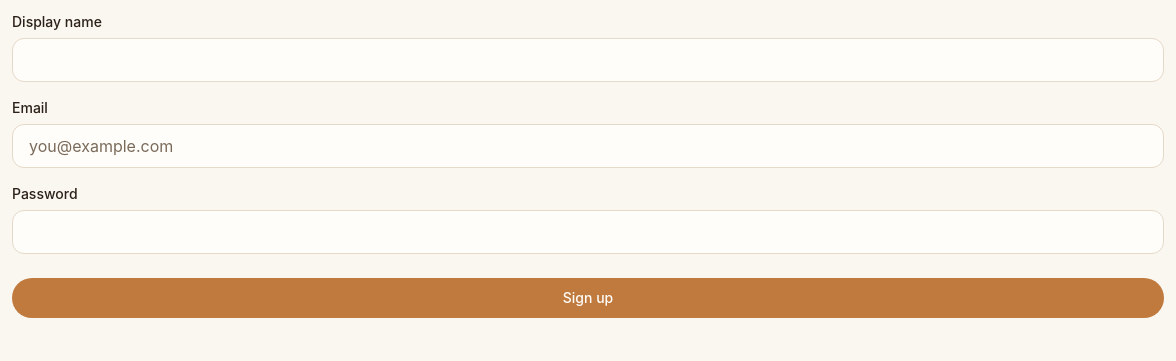
Test: RegisterForm › requires a display name
The width and height of the screenshot is (1176, 361).
In the field labelled "Email": x=588, y=146 top-left (12, 124), bottom-right (1164, 168), type "ada@example.com"
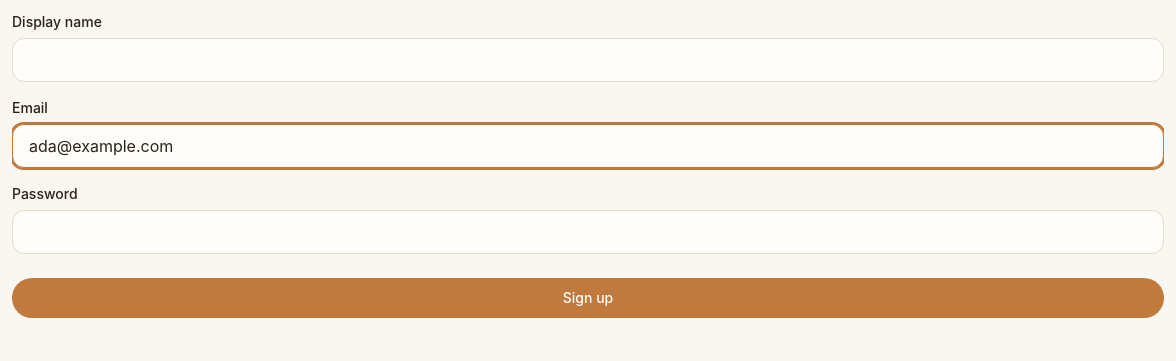
In the password field labelled "Password": x=588, y=232 top-left (12, 210), bottom-right (1164, 254), type "espresso42"
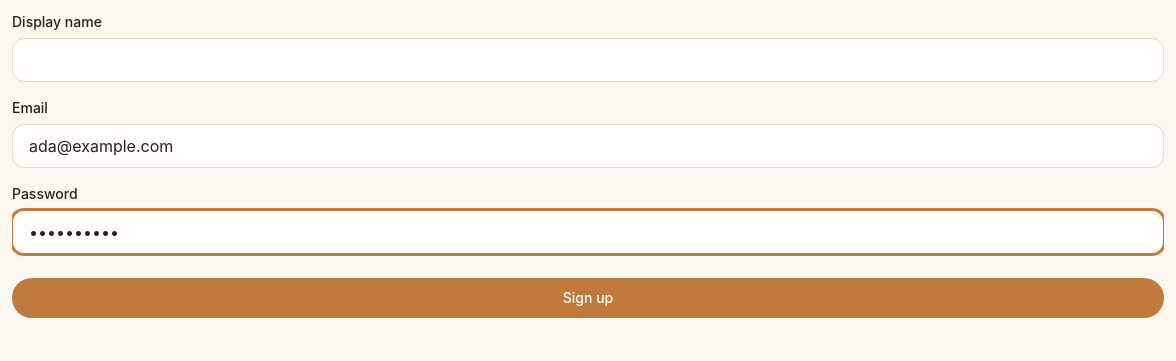
Click the button "Sign up": x=588, y=298 top-left (12, 278), bottom-right (1164, 318)
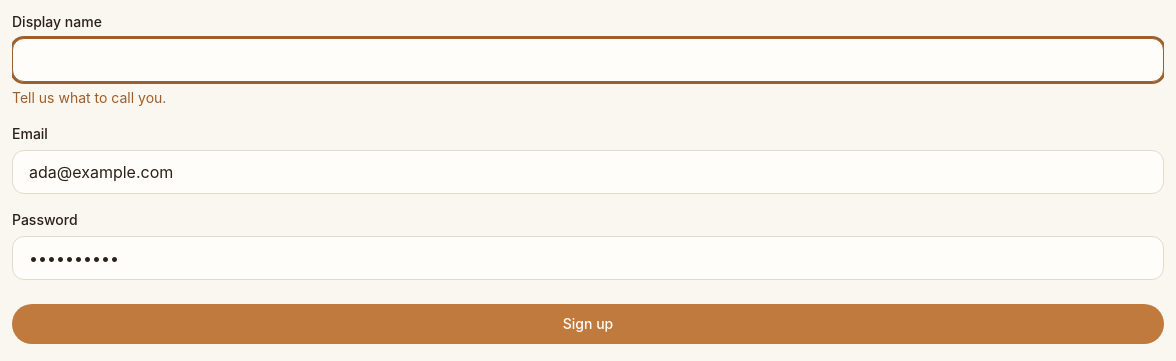
Check: the text "Tell us what to call you." is shown, box top-left (12, 89), bottom-right (166, 106)
